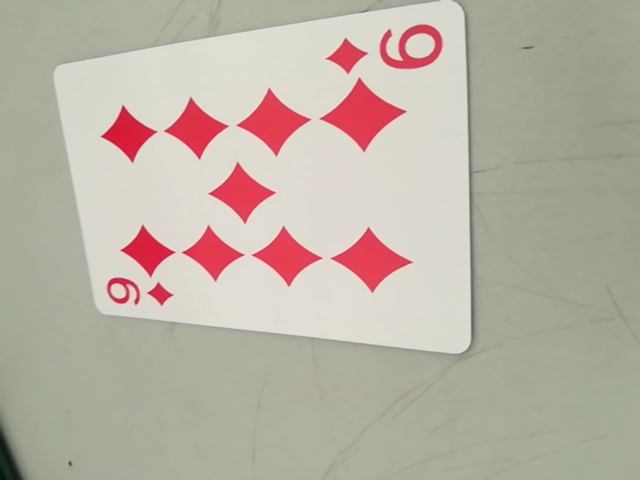fk 9: (327, 16, 449, 84), (99, 270, 180, 316)
